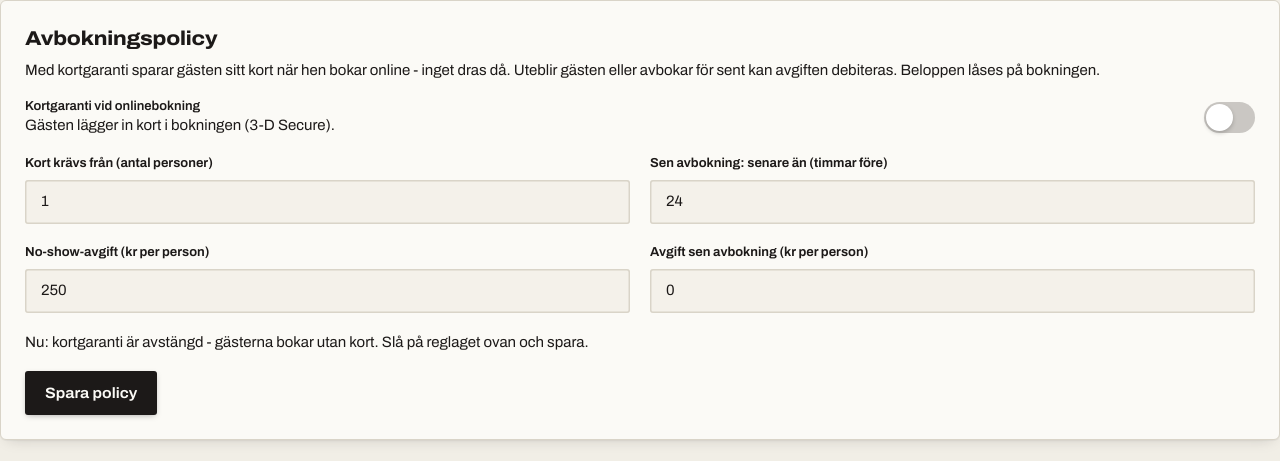
it: CancellationPolicyCard › flags unsaved changes until the policy is saved
Click the switch named "Kortgaranti vid onlinebokning".
click(1230, 117)  # box [1204,102,1255,133]
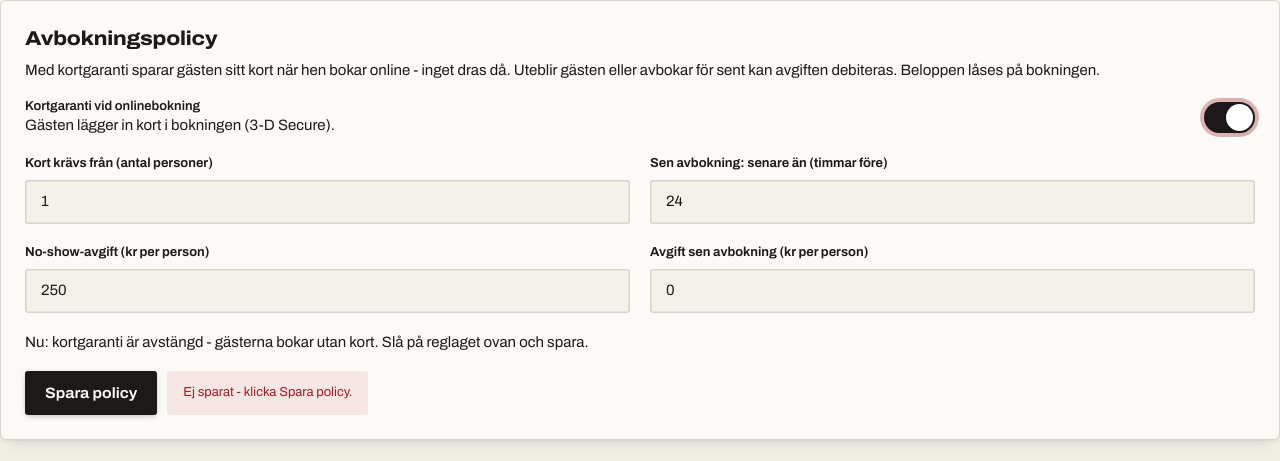
Now the text "Ej sparat - klicka Spara policy." is shown, box [167,371,368,415]
Click the button "Spara policy".
click(91, 393)  # box [25,371,157,415]
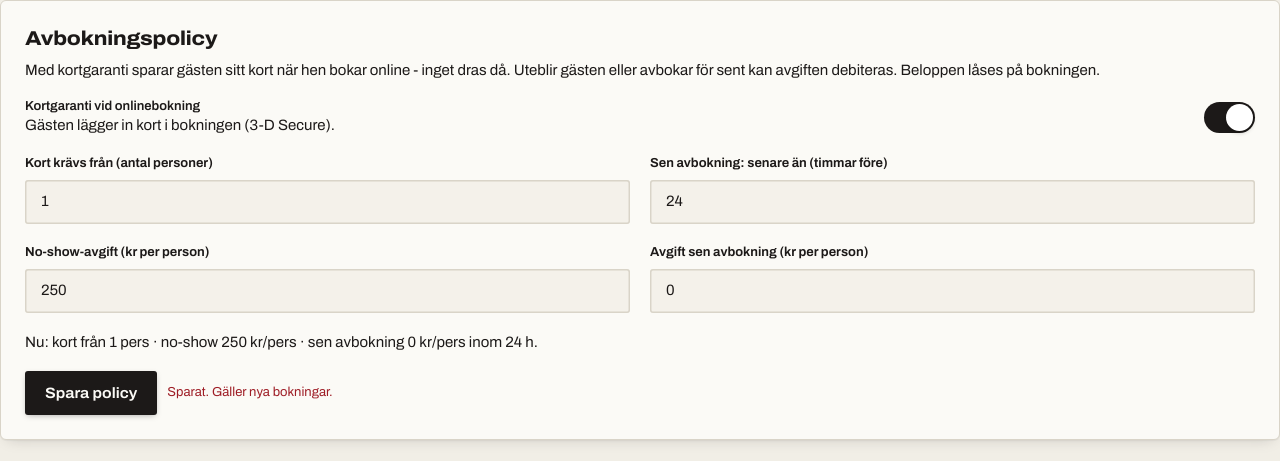
Now the text "Sparat. Gäller nya bokningar." is shown, box [167,383,333,403]
Now the text "Ej sparat - klicka Spara policy." is gone
